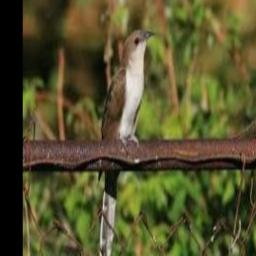Cuckoo: (99, 29, 155, 256)
